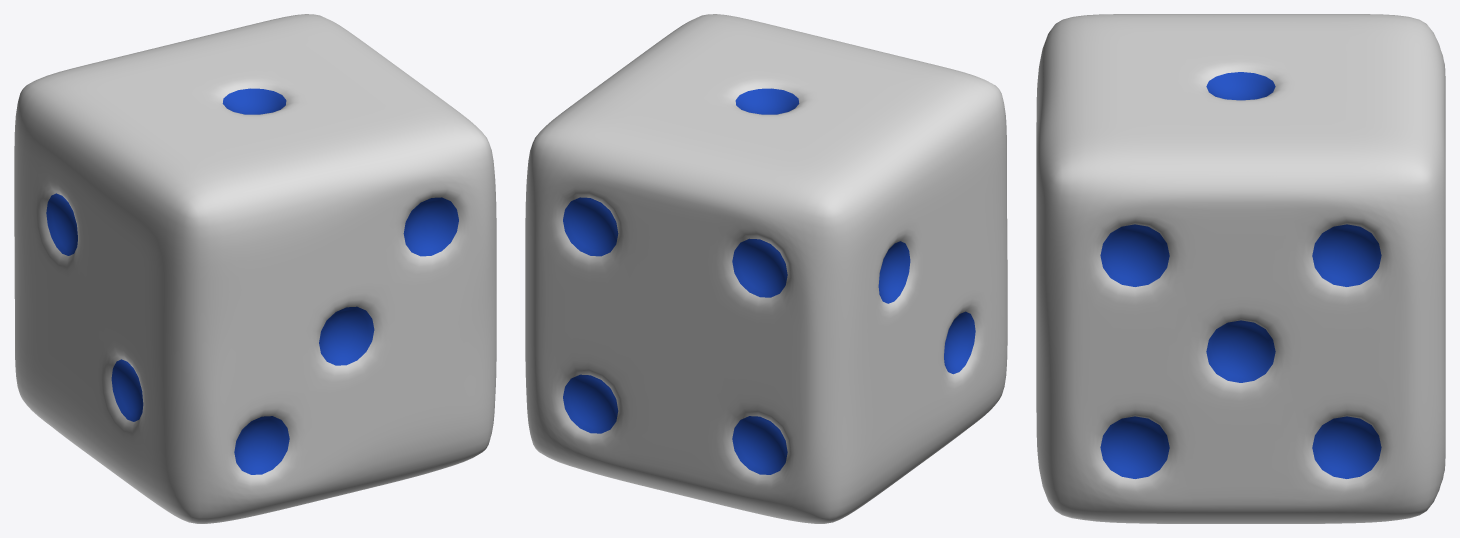
File: DiceBlue.fbx
3 renders of one model, left to right at view 1: azimuth 30°, elevation 25°; view 2: azimuth 150°, elevation 25°; view 3: azimuth 270°, elevation 25°, orthographic. The views are drawn at different scales.
Visible parts, largest first — view 1: Die (Blue); view 2: Die (Blue); view 3: Die (Blue).
Part boxes in pixels (bbox=[...]): Die (Blue): bbox=[14, 14, 496, 523]; Die (Blue): bbox=[525, 14, 1007, 523]; Die (Blue): bbox=[1036, 14, 1445, 523].
Bounding box in the file's own units: 200 × 200 × 200.
